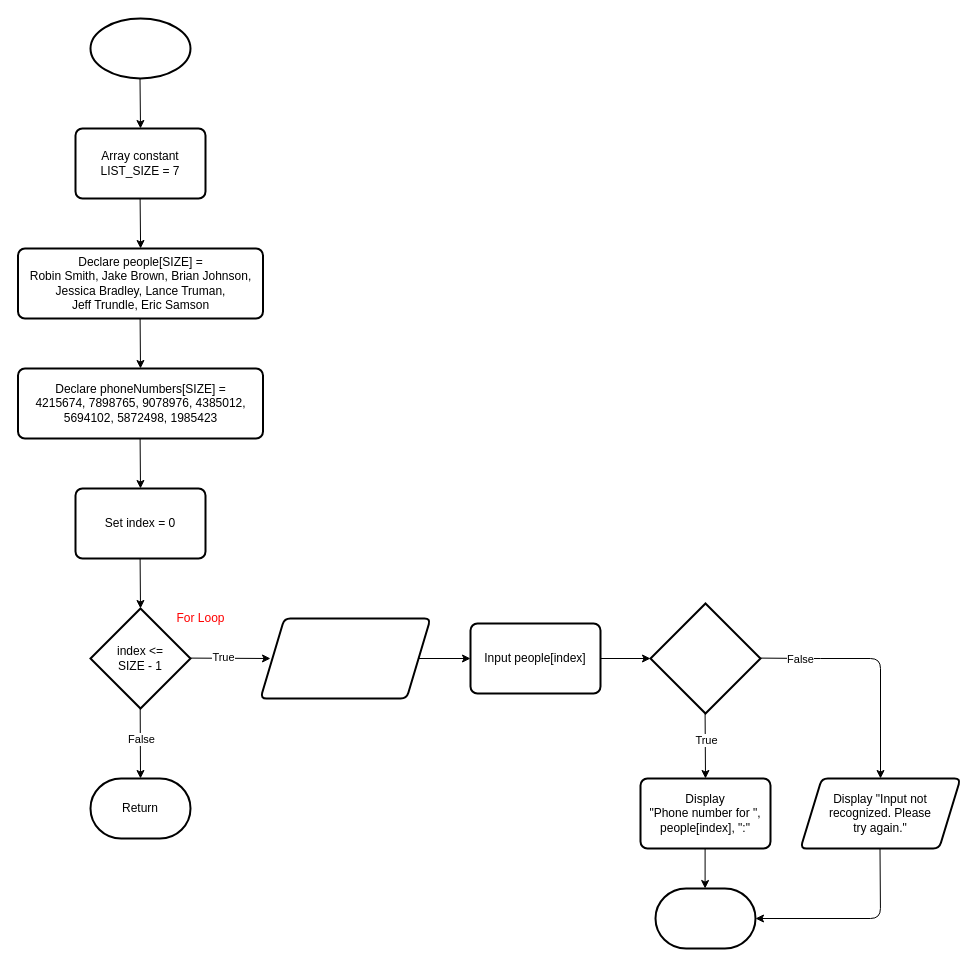
Some shapes in this 979 by 966 pixel diagram are drawn without their labels. The shapes that lost their labels are listed below. From the top down, each one's box as (x1, y1, x2, y2) in pixels, then its label:
(89, 17, 191, 79): main()
(259, 617, 431, 699): Display "Enter a name to obtain their phone number: "
(649, 602, 761, 714): Input = people[index]
(654, 887, 756, 949): End
